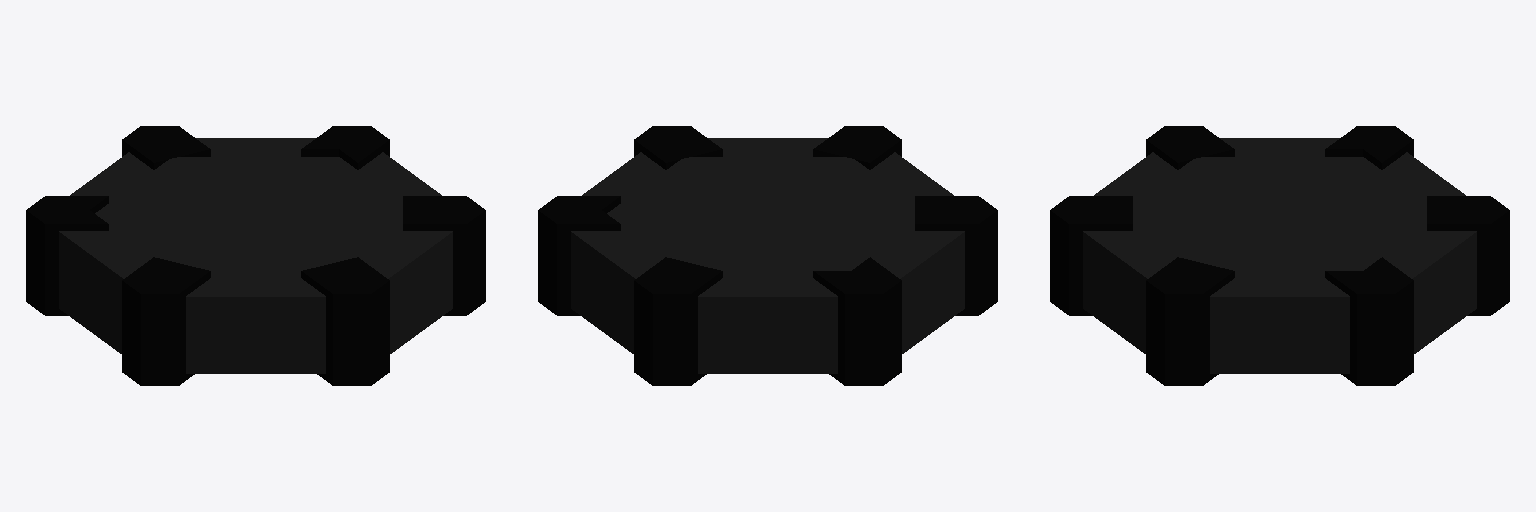
Rendered from level2.obj.
The picture shows the model from 3 angles: view 1: azimuth 30°, elevation 25°; view 2: azimuth 150°, elevation 25°; view 3: azimuth 270°, elevation 25°; orthographic projection.
Parts seen in each view (by area): view 1: Cube.002; view 2: Cube.002; view 3: Cube.002.
Boxes of the visible parts, x1,y1,x2,y2 form: Cube.002: [26, 126, 485, 385]; Cube.002: [538, 126, 997, 385]; Cube.002: [1050, 126, 1509, 385].
Size of the model in its own units: 1.84 by 0.4685 by 2.13.